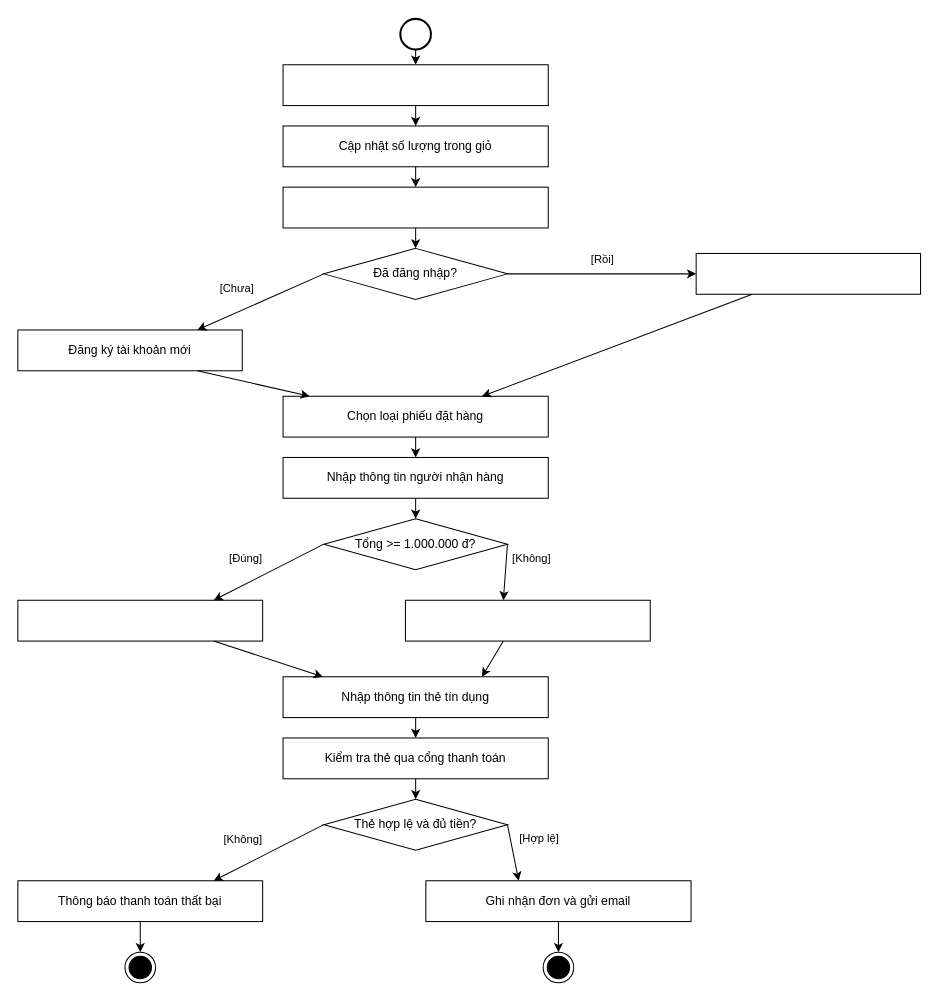
This 938x1001 diagram has some shape labels left out. Here are the shapes that lost their labels. From the top down, the centre of each, then its label:
At point (415, 85): "Chọn sản phẩm vào giỏ hàng".
At point (415, 207): "Chọn chức năng tính tiền".
At point (808, 273): "Đăng nhập hệ thống".
At point (140, 620): "Miễn phí chuyển phát nhanh".
At point (527, 620): "Tính phí giao theo khu vực".
